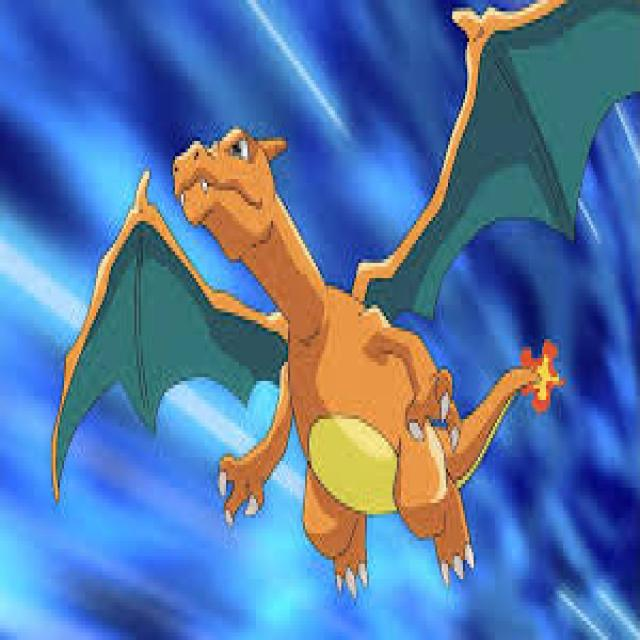charizard: (49, 0, 640, 605)
